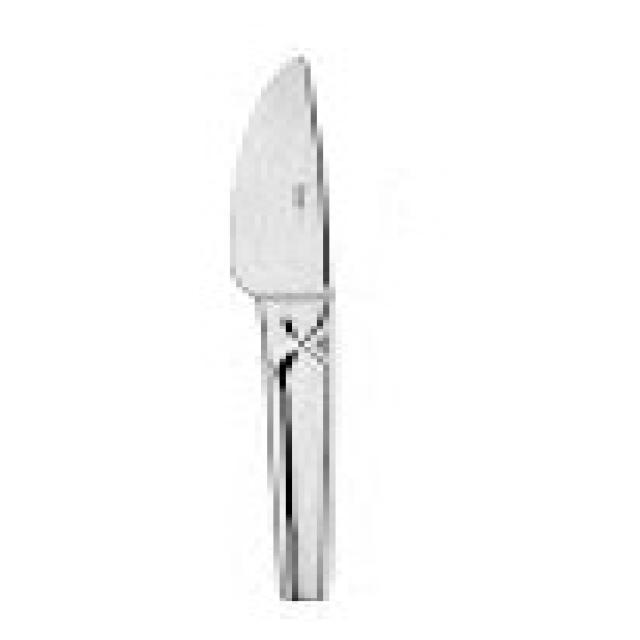knife: (215, 49, 376, 605)
